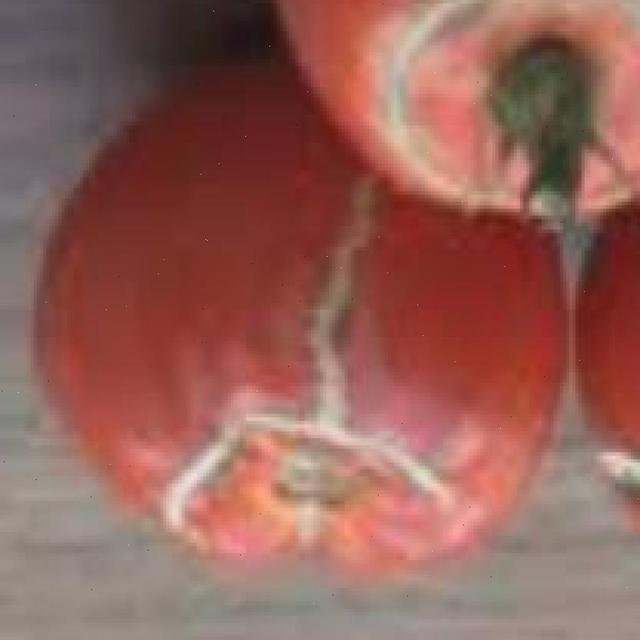Cracking Fruit: (124, 74, 313, 285)
